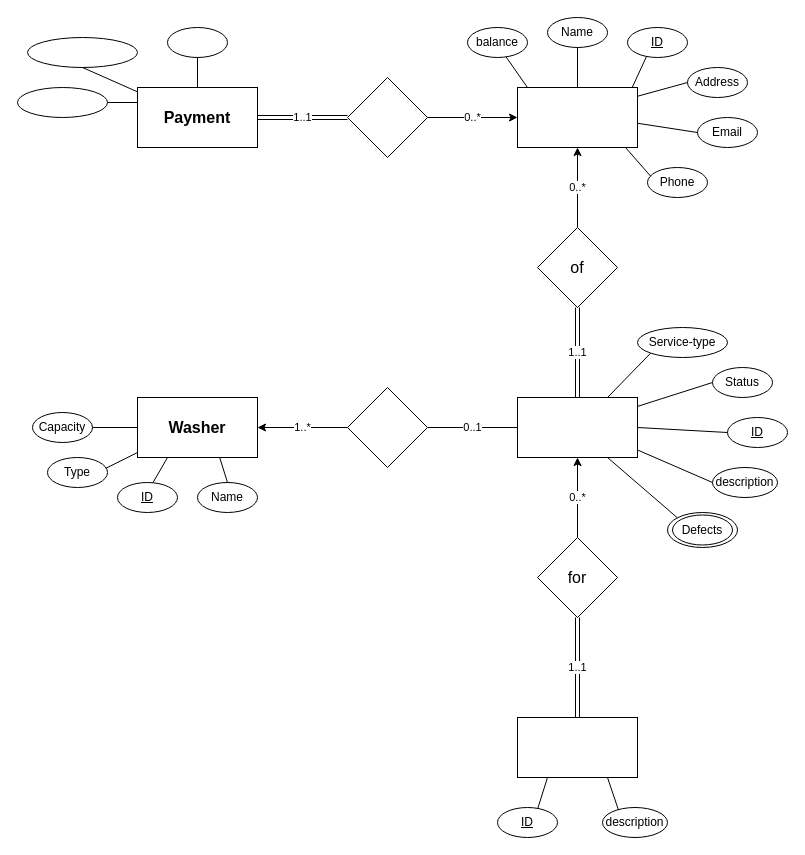
This 805x855 diagram has some shape labels left out. Each missing label, with the centre of its shape:
"Allotted to" belongs at point (387, 427).
"Amount" belongs at point (197, 42).
"by" belongs at point (387, 117).
"Cloth" belongs at point (577, 427).
"Complain" belongs at point (577, 747).
"Customer" belongs at point (577, 117).
"Transaction id" belongs at point (62, 102).
"Transaction Mode" belongs at point (82, 52).
